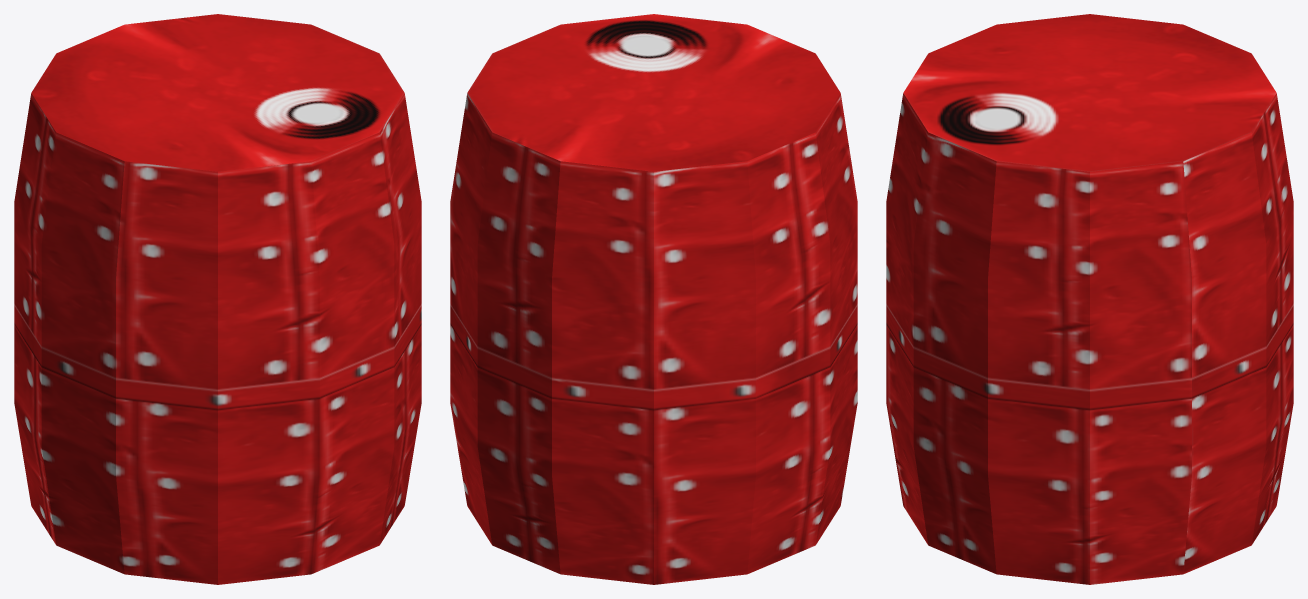
File: Barrel_Metal_1.fbx
The picture shows the model from 3 angles, left to right: view 1: azimuth 30°, elevation 25°; view 2: azimuth 150°, elevation 25°; view 3: azimuth 270°, elevation 25°; orthographic projection.
Visible parts, largest first — view 1: Barrel_Metal_1; view 2: Barrel_Metal_1; view 3: Barrel_Metal_1.
Part boxes in pixels (x1,y1,x2,y2): Barrel_Metal_1: (14, 14, 421, 584); Barrel_Metal_1: (450, 14, 857, 584); Barrel_Metal_1: (886, 14, 1293, 584).
Size of the model in its own units: 2.17 by 2.42 by 2.17.
1 material, 1 textured.
